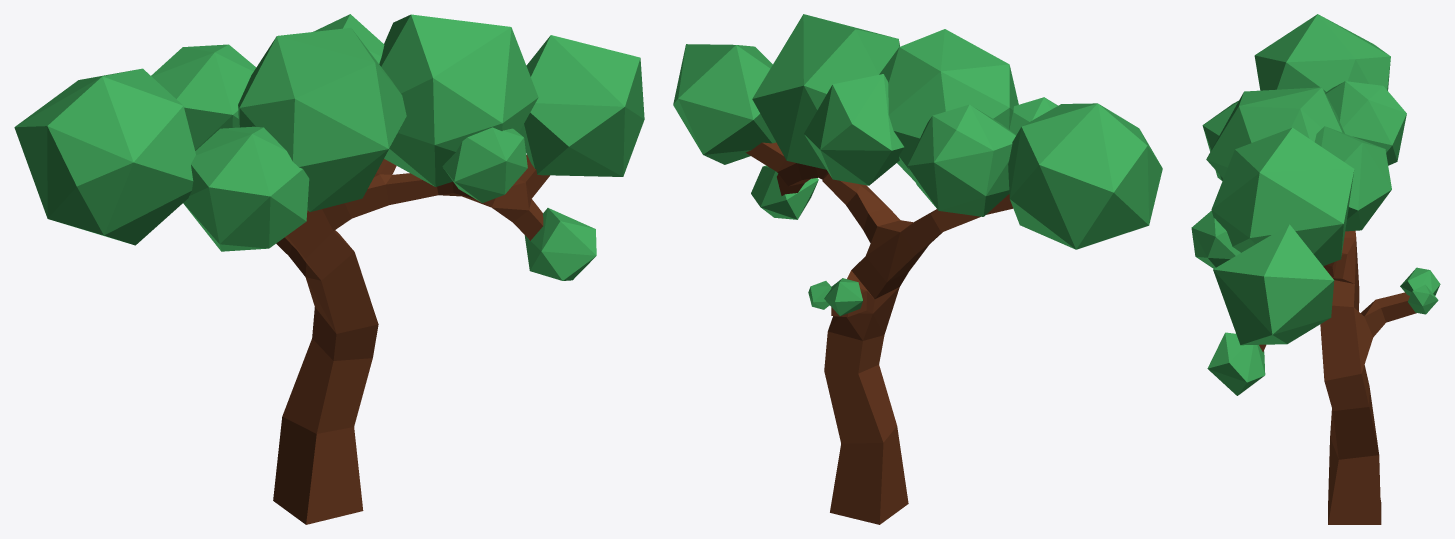
The model's file is BigTree.fbx.
3 views of the same model, side by side, from view 1: azimuth 30°, elevation 25°; view 2: azimuth 150°, elevation 25°; view 3: azimuth 270°, elevation 25° (orthographic). The views are drawn at different scales.
Parts seen in each view (by area): view 1: Tree_1; view 2: Tree_1; view 3: Tree_1.
Part boxes in pixels (x1,y1,x2,y2): Tree_1: (14,14,644,524); Tree_1: (673,14,1162,524); Tree_1: (1191,14,1440,524).
Bounding box in the file's own units: 324 × 275 × 152.
